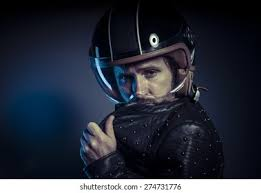com_capacete: (81, 5, 204, 114)
